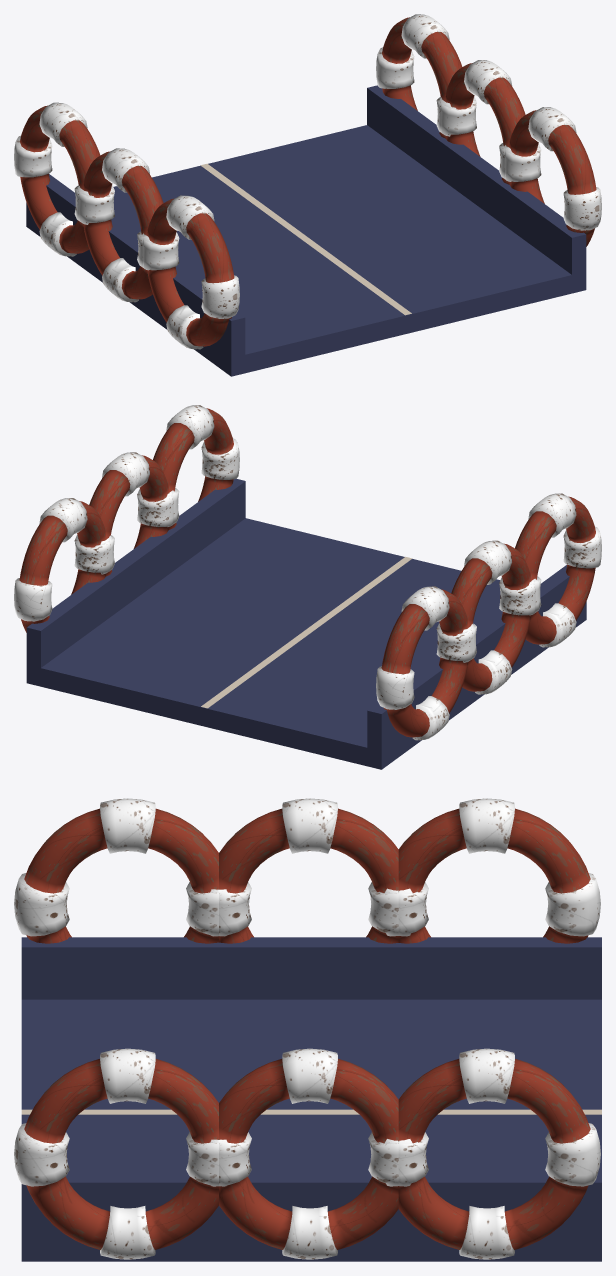
The model's file is ModularTrackStraight.fbx.
3 views of the same model, one above another, from view 1: azimuth 30°, elevation 25°; view 2: azimuth 150°, elevation 25°; view 3: azimuth 270°, elevation 25° (orthographic). The views are drawn at different scales.
Parts seen in each view (by area): view 1: ModularTrackStraight, LifeSaver, LifeSaver__2_, LifeSaver__1_, LifeSaver__3_, LifeSaver__5_, LifeSaver__4_, LaneDivider; view 2: ModularTrackStraight, LifeSaver__2_, LifeSaver, LifeSaver__1_, LifeSaver__5_, LifeSaver__3_, LifeSaver__4_, LaneDivider; view 3: ModularTrackStraight, LifeSaver__3_, LifeSaver__5_, LifeSaver__4_, LifeSaver, LifeSaver__2_, LifeSaver__1_, LaneDivider.
Boxes of the visible parts, <box> form: ModularTrackStraight: <box>26,85,586,376</box>; LifeSaver: <box>142,195,239,349</box>; LifeSaver__2_: <box>14,102,111,256</box>; LifeSaver__1_: <box>77,148,163,302</box>; LifeSaver__3_: <box>504,107,601,246</box>; LifeSaver__5_: <box>376,14,473,138</box>; LifeSaver__4_: <box>440,60,525,184</box>; LaneDivider: <box>200,163,411,315</box>; ModularTrackStraight: <box>26,478,586,769</box>; LifeSaver__2_: <box>376,586,473,740</box>; LifeSaver: <box>515,493,601,647</box>; LifeSaver__1_: <box>439,540,536,694</box>; LifeSaver__5_: <box>14,498,111,632</box>; LifeSaver__3_: <box>153,405,239,529</box>; LifeSaver__4_: <box>77,452,174,576</box>; LaneDivider: <box>201,556,412,708</box>; ModularTrackStraight: <box>21,937,601,1261</box>; LifeSaver__3_: <box>14,1048,227,1259</box>; LifeSaver__5_: <box>379,1048,600,1259</box>; LifeSaver__4_: <box>210,1048,417,1259</box>; LifeSaver: <box>14,798,227,943</box>; LifeSaver__2_: <box>379,798,600,943</box>; LifeSaver__1_: <box>210,798,417,943</box>; LaneDivider: <box>21,1109,601,1114</box>.
Bounding box in the file's own units: 1111 × 405 × 1013.
Materials: 3 (1 with a texture image).
